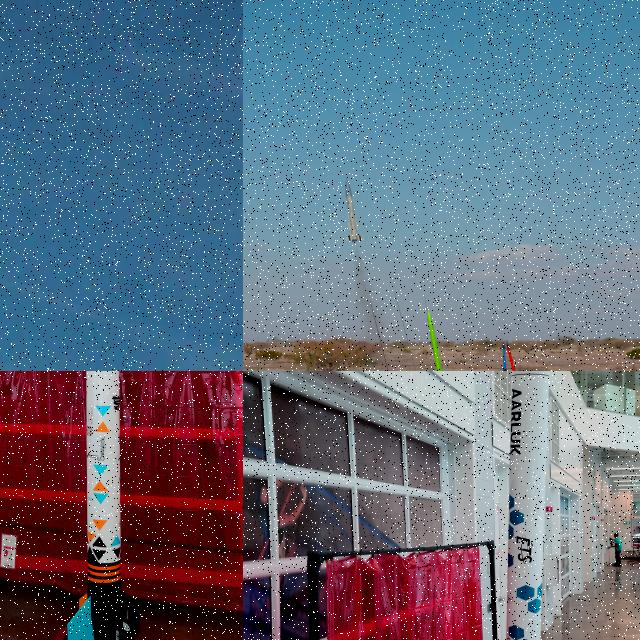Rocket: (67, 371, 140, 640), (506, 371, 550, 640), (344, 178, 365, 242), (427, 310, 448, 371), (506, 341, 519, 371), (500, 342, 510, 371)
